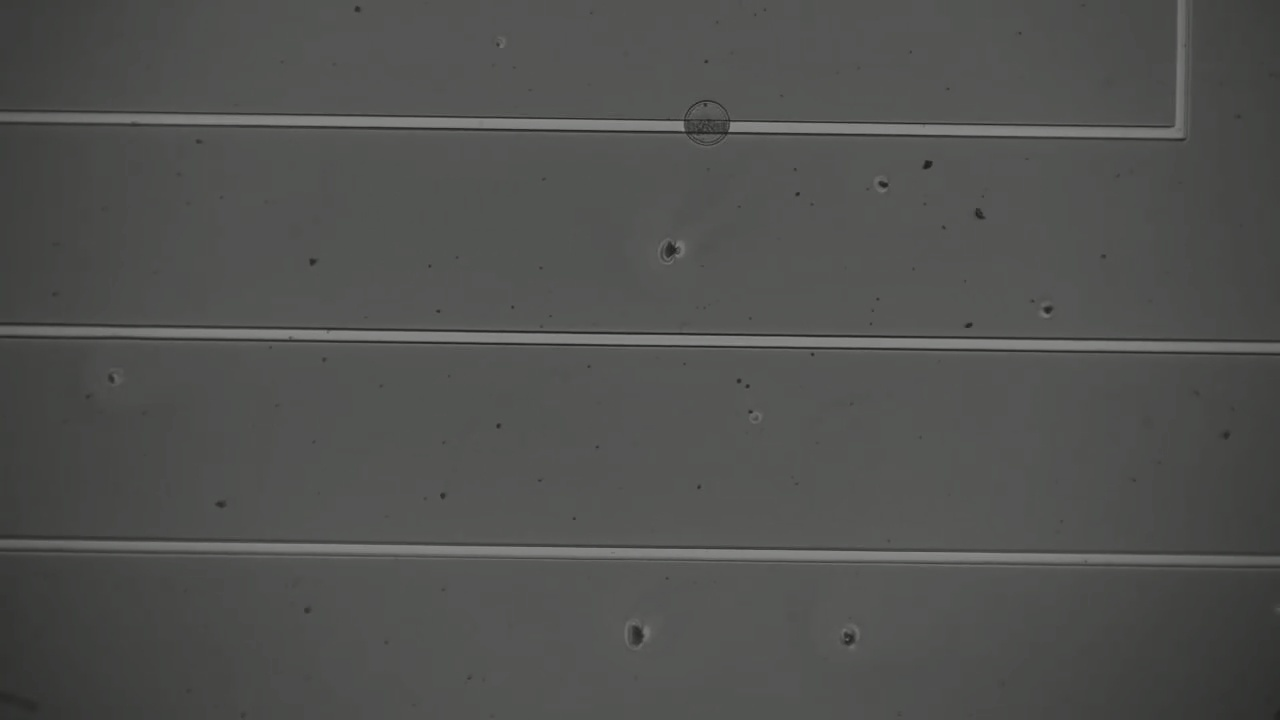gray_line: (670, 111, 743, 144)
